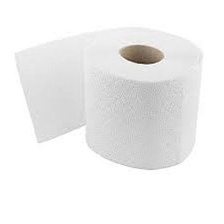tissue: (10, 19, 209, 175)
